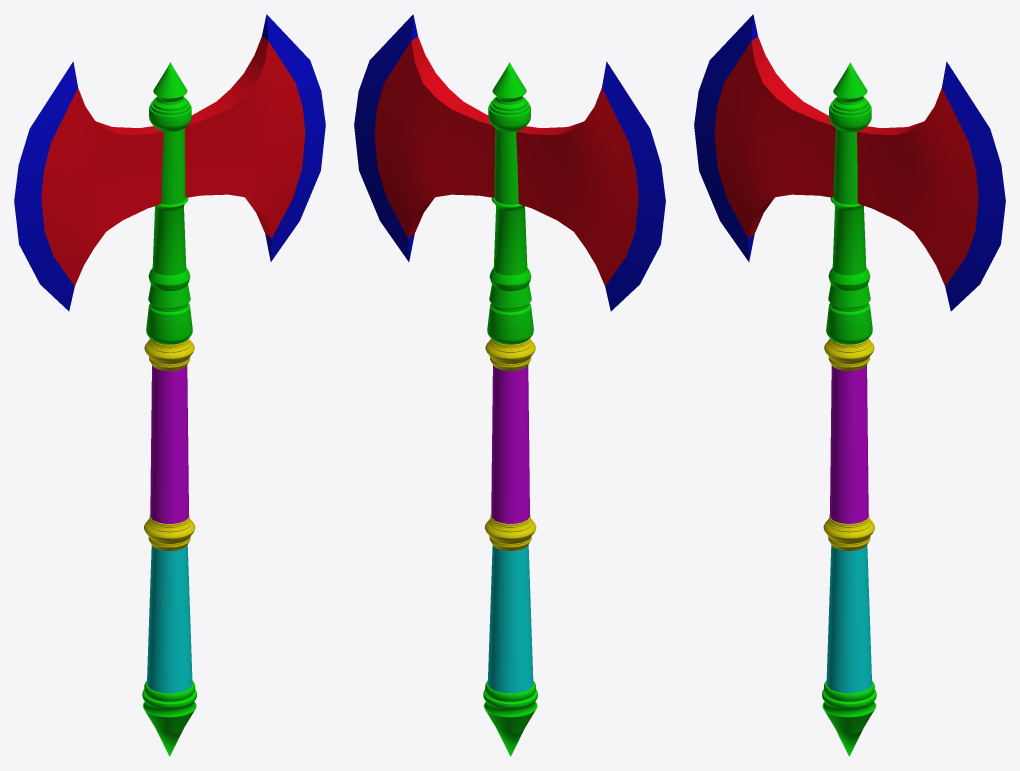
The model's file is Axe.fbx.
The picture shows the model from 3 angles, left to right: view 1: azimuth 30°, elevation 25°; view 2: azimuth 150°, elevation 25°; view 3: azimuth 330°, elevation 25°; orthographic projection.
Parts seen in each view (by area): view 1: Axe; view 2: Axe; view 3: Axe.
Part boxes in pixels (x1,y1,x2,y2): Axe: (14,14,325,756); Axe: (354,14,665,756); Axe: (694,14,1005,756).
Bounding box in the file's own units: 0.5003 × 1.1 × 0.0763.
